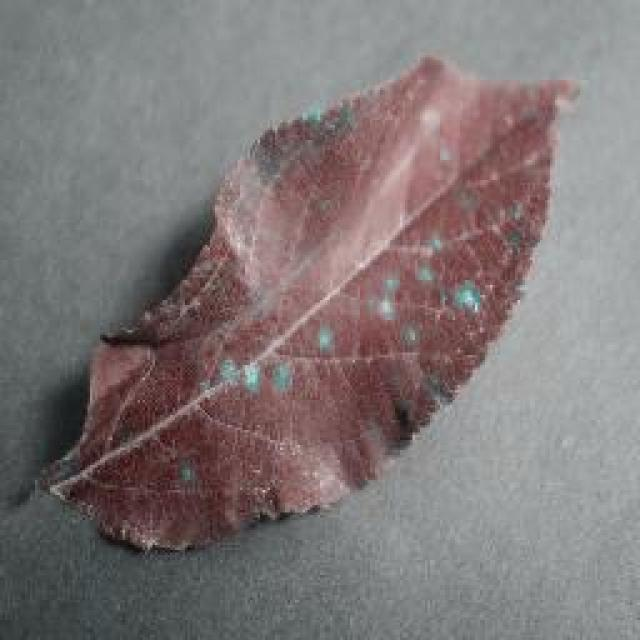apple cedar apple rust: (32, 52, 580, 552)
